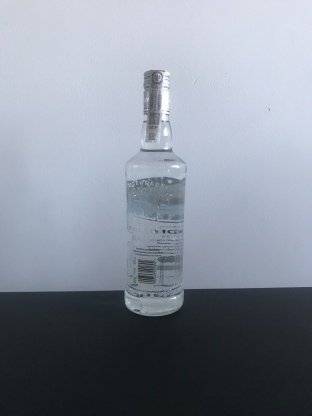nakretka: (140, 64, 172, 117), (155, 120, 173, 133)
